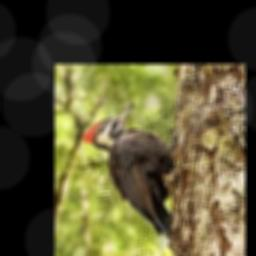Woodpecker: (83, 102, 175, 238)
